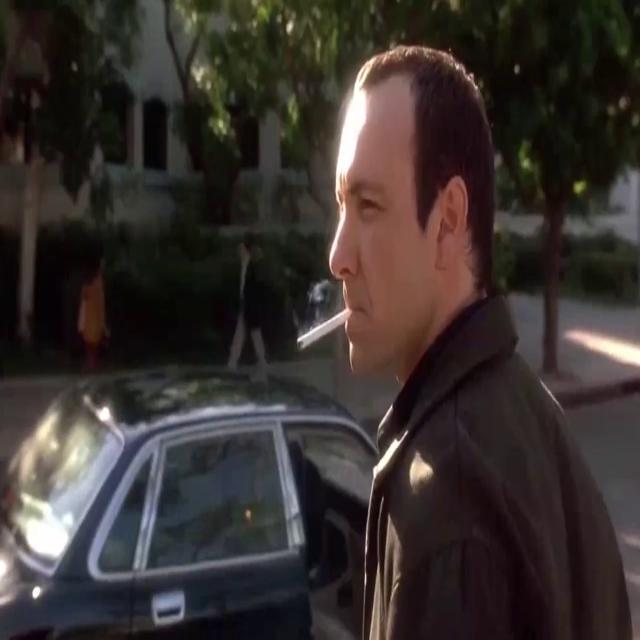Smooking: (288, 289, 356, 354)
